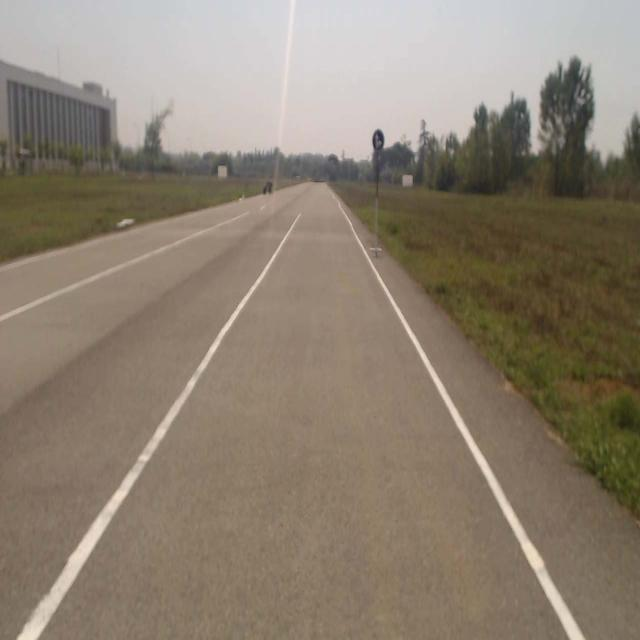ilerisag: (372, 129, 386, 151)
